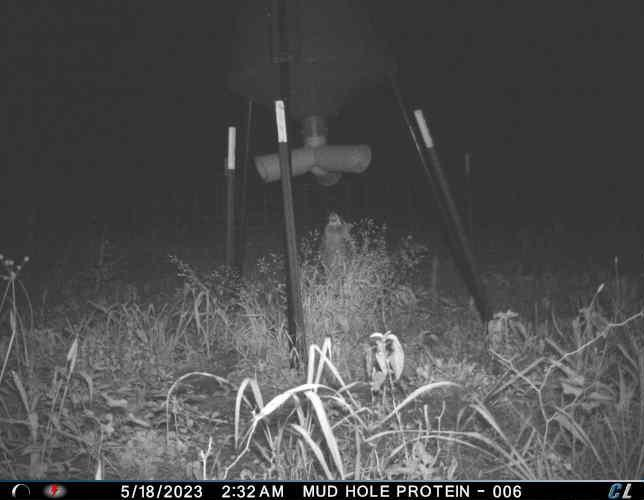Raccoon: (314, 209, 356, 266)
